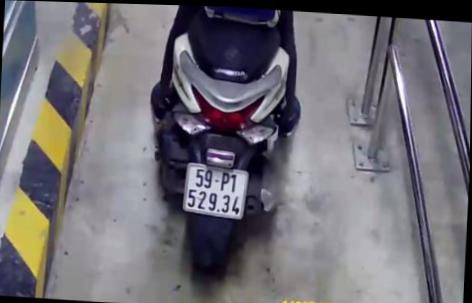LP: (183, 159, 251, 219)
